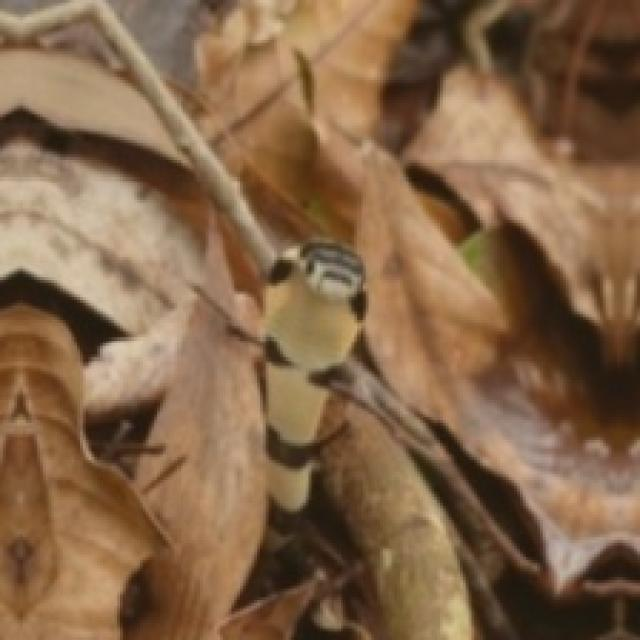king cobra: (264, 240, 362, 578)
